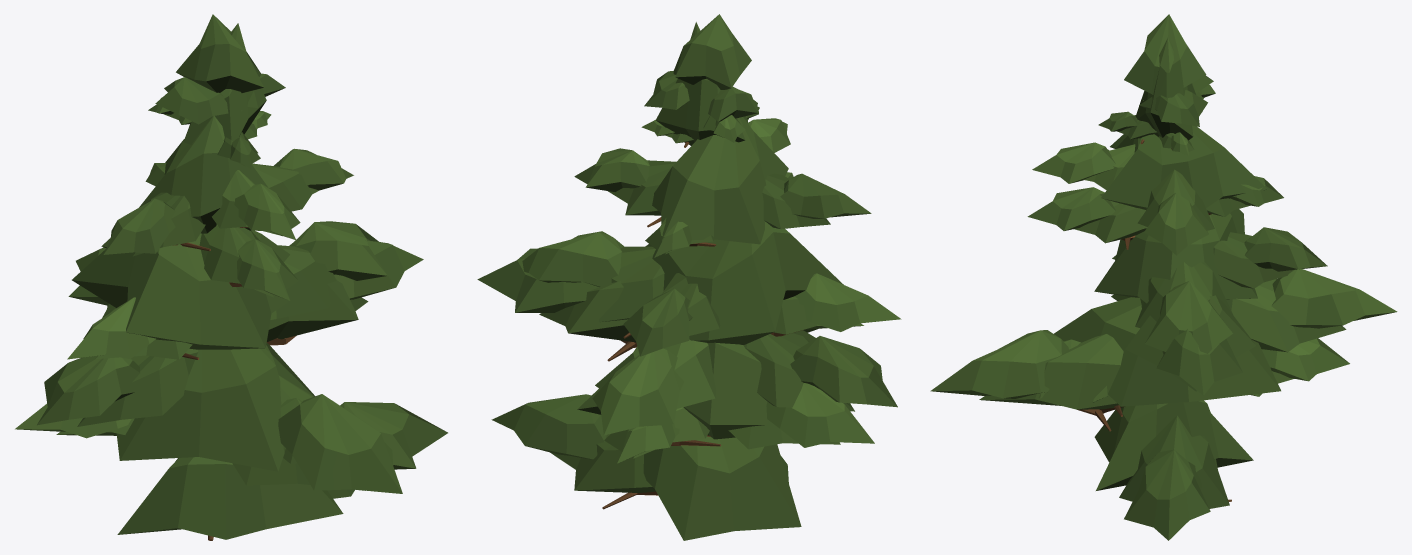
The model's file is pine-03.glb.
3 renders of one model, left to right at view 1: azimuth 30°, elevation 25°; view 2: azimuth 150°, elevation 25°; view 3: azimuth 270°, elevation 25°, orthographic. The views are drawn at different scales.
Parts seen in each view (by area): view 1: pine-03; view 2: pine-03; view 3: pine-03.
Boxes of the visible parts, <box> form: pine-03: <box>15,14,447,540</box>; pine-03: <box>477,14,901,540</box>; pine-03: <box>930,14,1397,540</box>.
Bounding box in the file's own units: 3.39 × 4 × 3.71.
